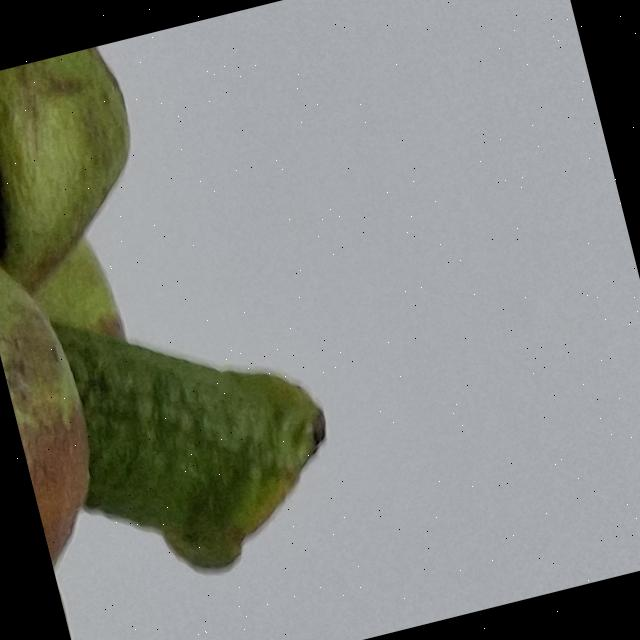mangosteen: (0, 0, 460, 640)
